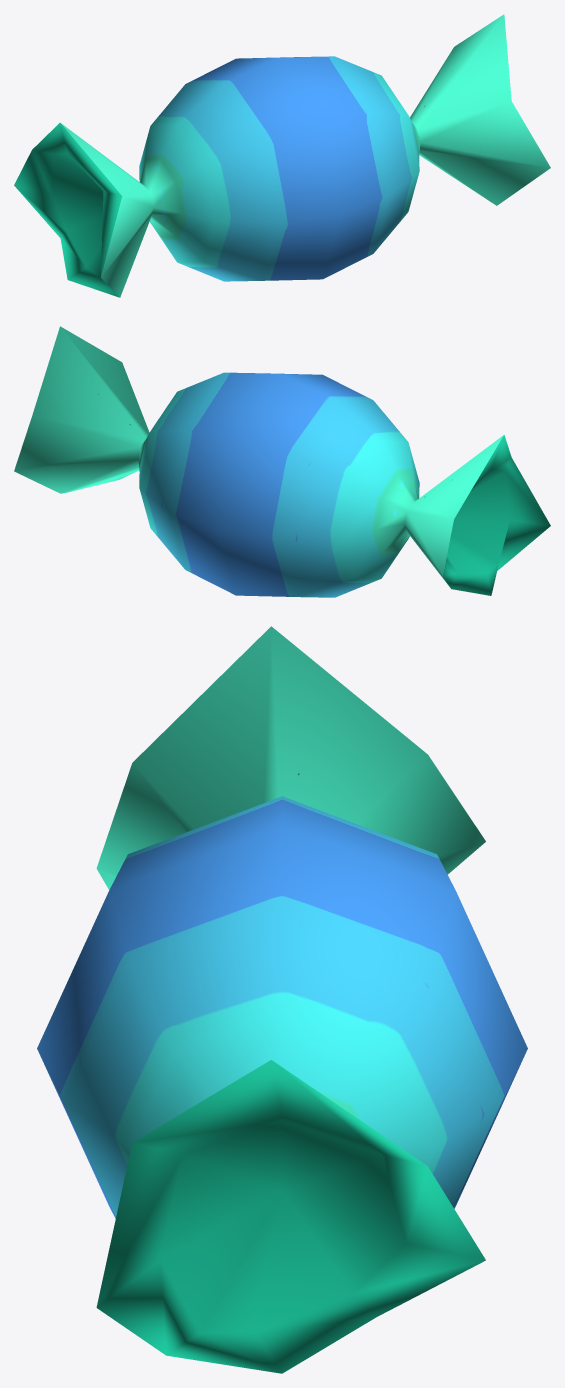
3 renders of one model, top to bottom at view 1: azimuth 30°, elevation 25°; view 2: azimuth 150°, elevation 25°; view 3: azimuth 270°, elevation 25°, orthographic. The views are drawn at different scales.
Parts seen in each view (by area): view 1: candy.003; view 2: candy.003; view 3: candy.003.
Part boxes in pixels (x1=…): candy.003: x1=14, y1=14, x2=550, y2=297; candy.003: x1=14, y1=326, x2=550, y2=597; candy.003: x1=37, y1=626, x2=527, y2=1373.
Bounding box in the file's own units: 47.94 × 22.65 × 22.65.
1 material, 1 textured.
